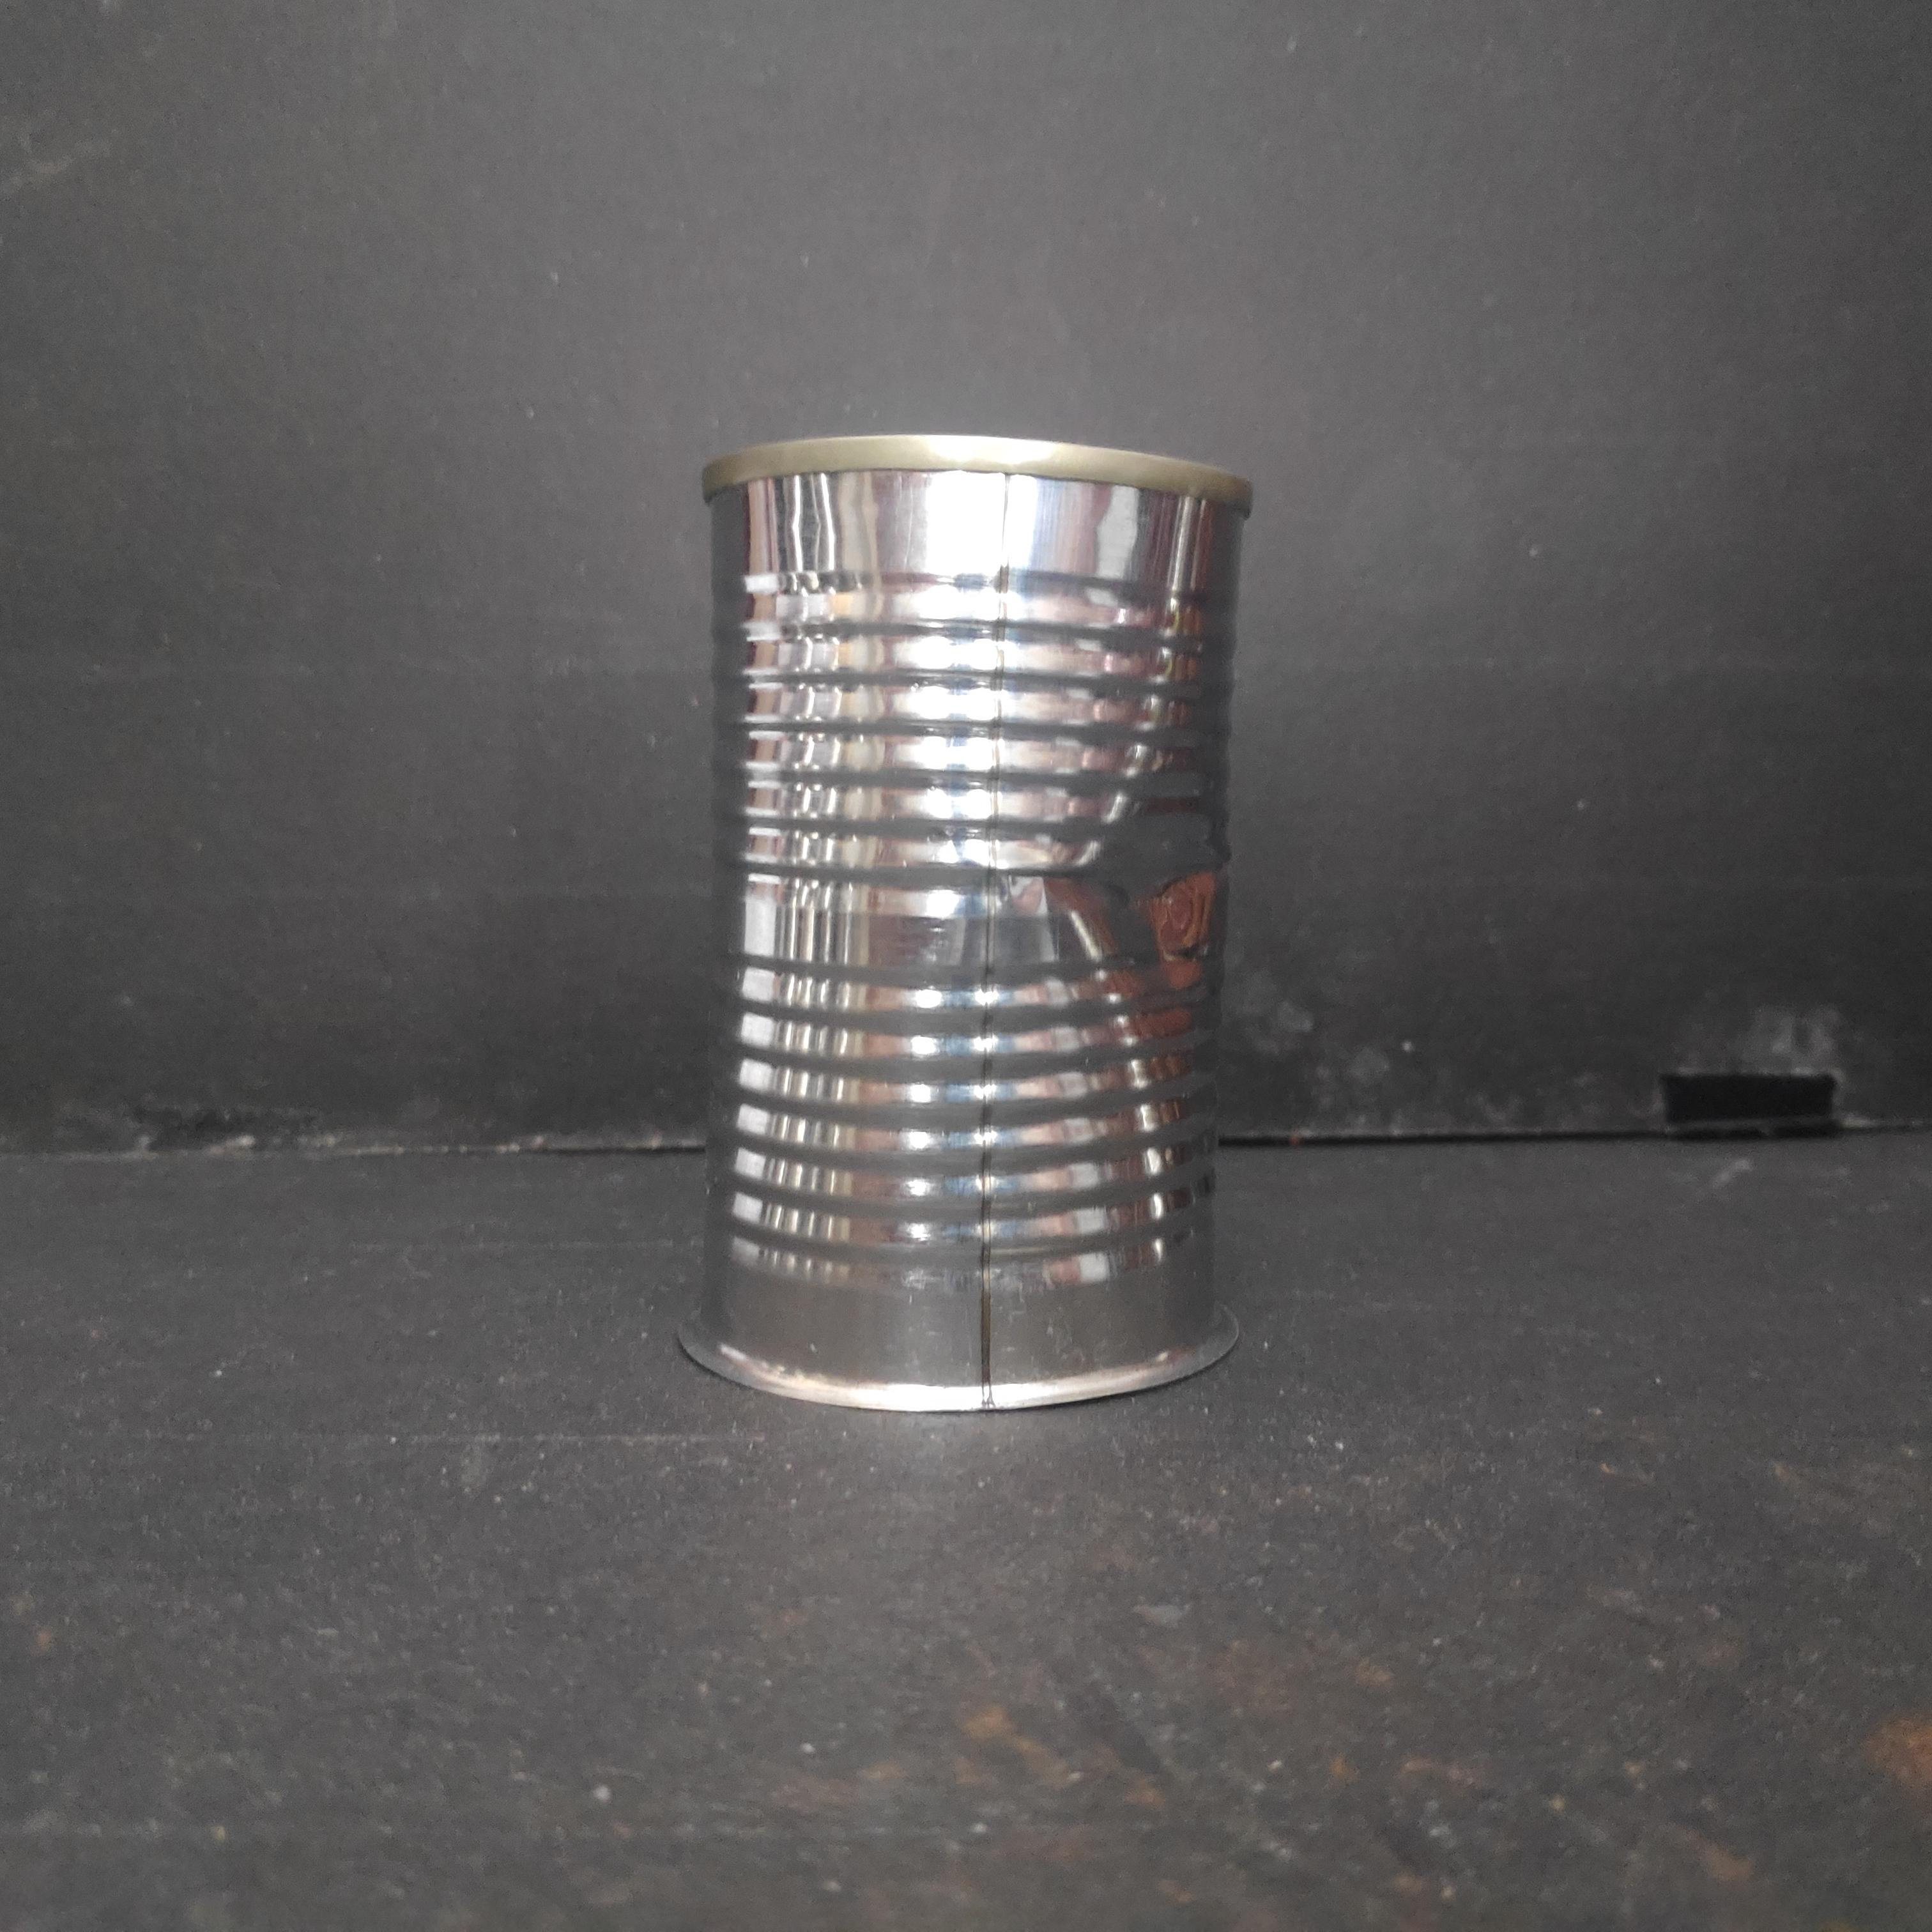Minor Defect: (681, 426, 1263, 1422)
